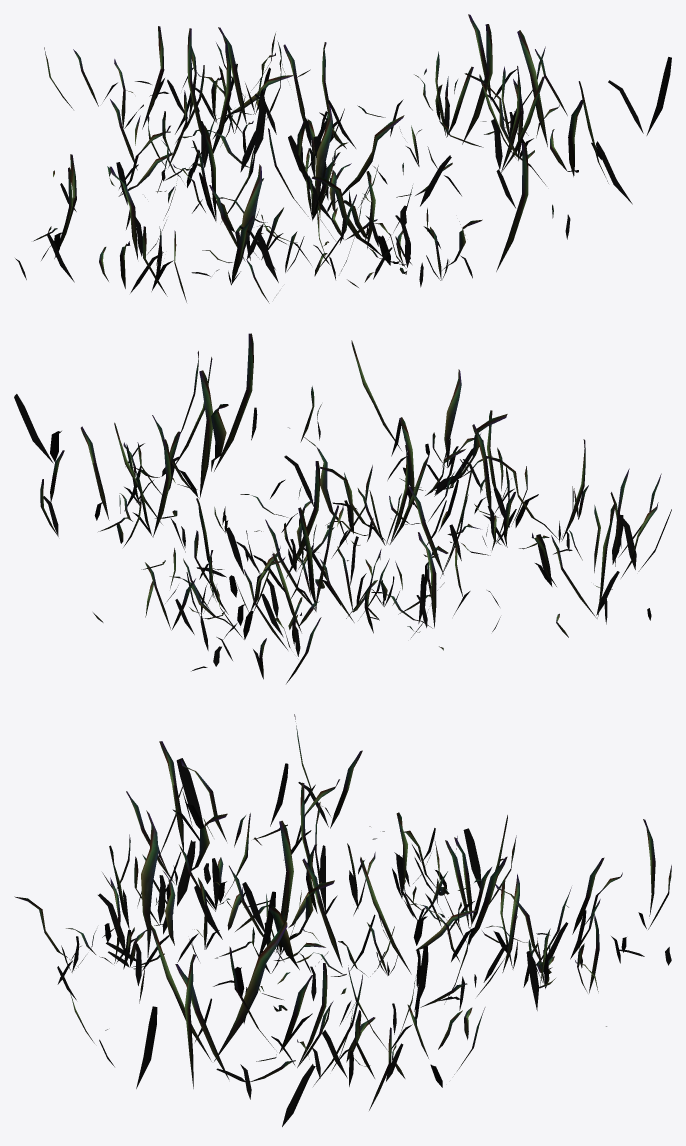
The model's file is wasteland_grass_medium_001.gltf.
The picture shows the model from 3 angles, top to bottom: view 1: azimuth 30°, elevation 25°; view 2: azimuth 150°, elevation 25°; view 3: azimuth 270°, elevation 25°; orthographic projection. The views are drawn at different scales.
Parts seen in each view (by area): view 1: Wasteland grass medium.001; view 2: Wasteland grass medium.001; view 3: Wasteland grass medium.001.
Part boxes in pixels (box(x1,y1,x2,y2)): Wasteland grass medium.001: box(15, 14, 671, 303); Wasteland grass medium.001: box(14, 333, 671, 683); Wasteland grass medium.001: box(14, 714, 671, 1126).
Bounding box in the file's own units: 0.5001 × 0.0916 × 0.4032.
Materials: 1 (1 with a texture image).
